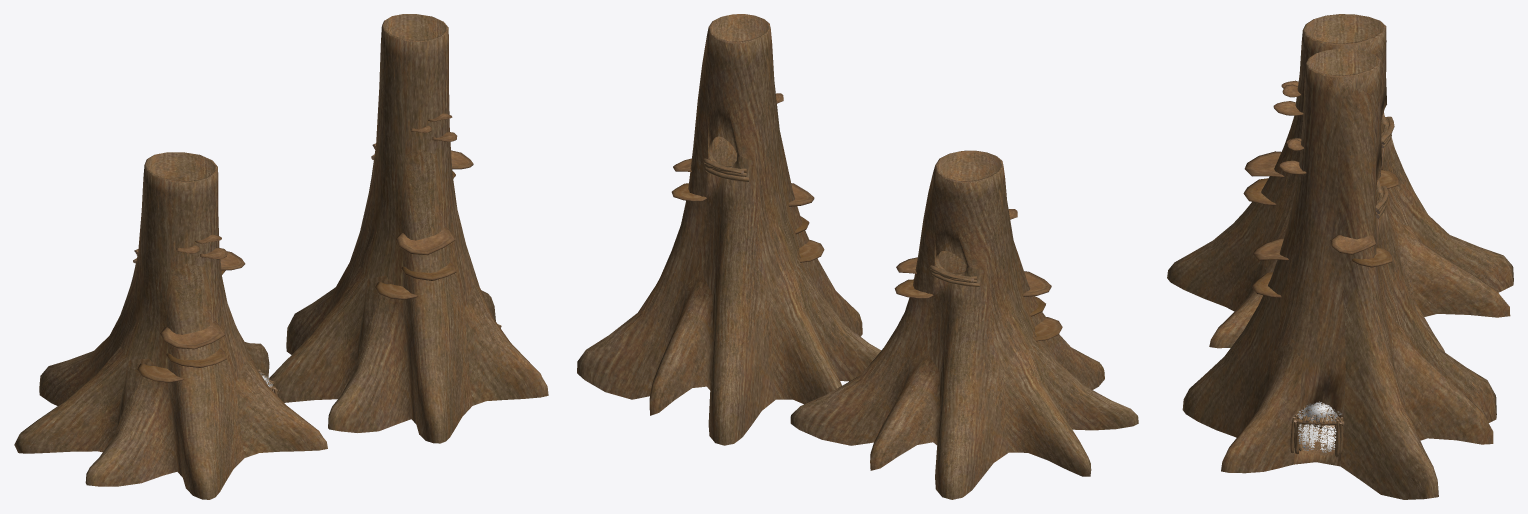
File: Hollowed_Elevators_A1.fbx
3 renders of one model, left to right at view 1: azimuth 30°, elevation 25°; view 2: azimuth 150°, elevation 25°; view 3: azimuth 270°, elevation 25°, orthographic. The views are drawn at different scales.
Parts seen in each view (by area): view 1: Hollowed_Elevator_A1, Hollowed_Elevator_A2; view 2: Hollowed_Elevator_A1, Hollowed_Elevator_A2; view 3: Hollowed_Elevator_A1, Hollowed_Elevator_A2, Hollowed_Elevator_A1_Ivy_Entrance.
Boxes of the visible parts, x1,y1,x2,y2 form: Hollowed_Elevator_A1: (269, 14, 548, 443); Hollowed_Elevator_A2: (14, 152, 327, 499); Hollowed_Elevator_A1: (577, 14, 880, 445); Hollowed_Elevator_A2: (790, 150, 1138, 499); Hollowed_Elevator_A1: (1182, 48, 1496, 499); Hollowed_Elevator_A2: (1167, 14, 1513, 351); Hollowed_Elevator_A1_Ivy_Entrance: (1298, 424, 1336, 452).
Size of the model in its own units: 5137 by 3614 by 2889.
